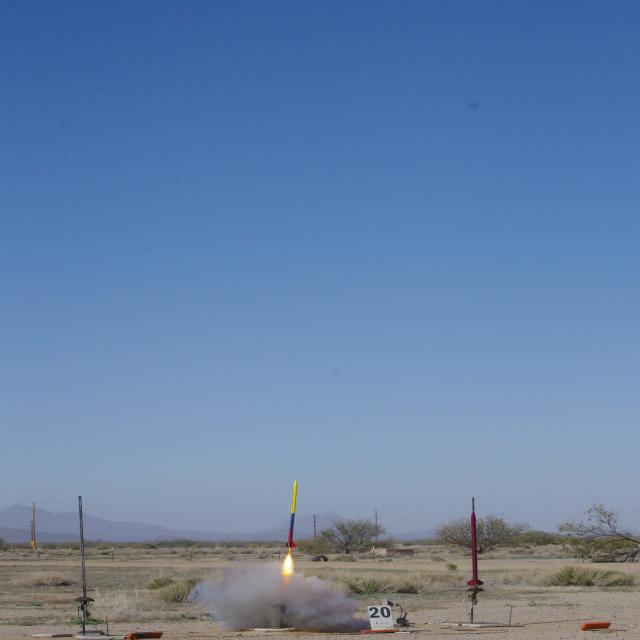Rocket: (466, 510, 484, 588), (286, 478, 298, 548)
